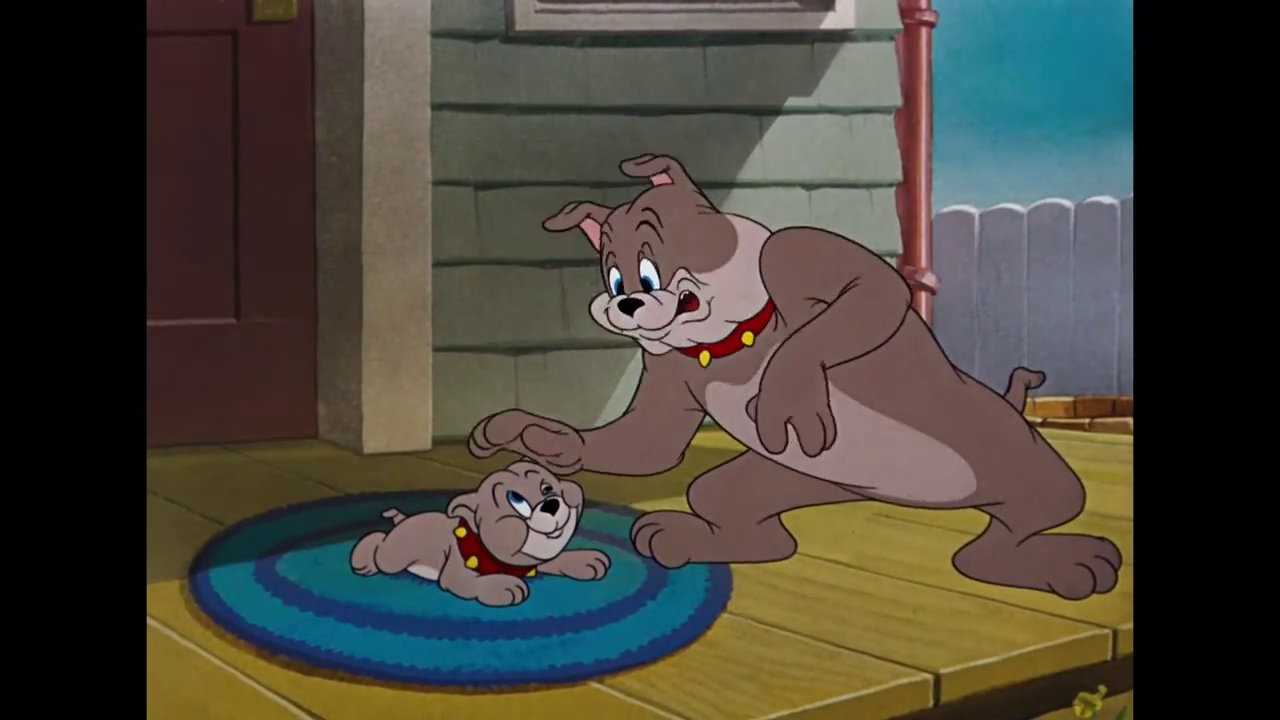spike: (540, 154, 774, 360)
